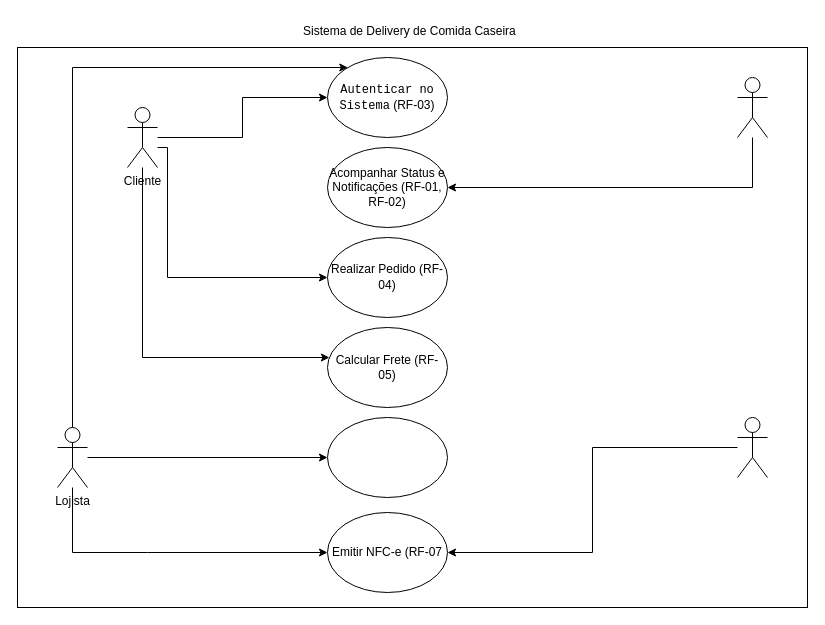
Some shapes in this 825 by 625 pixel diagram are drawn without their labels. Each missing label, with the centre of its shape:
"Entregador" belongs at point (752, 107).
"Gerenciar Cardápio (RF-06)" belongs at point (387, 457).
"Sistema SEFAZ" belongs at point (752, 447).
